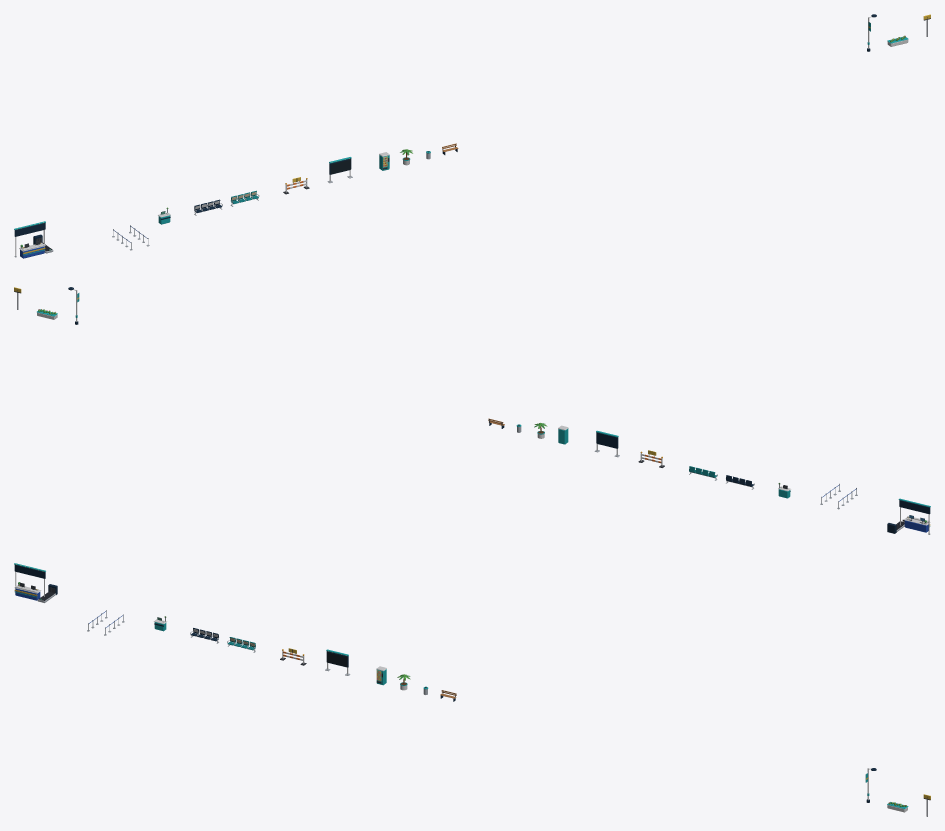
The model's file is skyport-hall.glb.
The picture shows the model from 3 angles, top to bottom: view 1: azimuth 30°, elevation 25°; view 2: azimuth 150°, elevation 25°; view 3: azimuth 330°, elevation 25°; orthographic projection.
Visible parts, largest first — view 1: sp_desk_mesh; view 2: sp_desk_mesh; view 3: sp_desk_mesh.
Part boxes in pixels (x1,y1,x2,y2): sp_desk_mesh: (14, 221, 53, 258); sp_desk_mesh: (887, 498, 930, 534); sp_desk_mesh: (14, 563, 57, 602).
Size of the model in its own units: 125 by 4.5 by 7.22.
